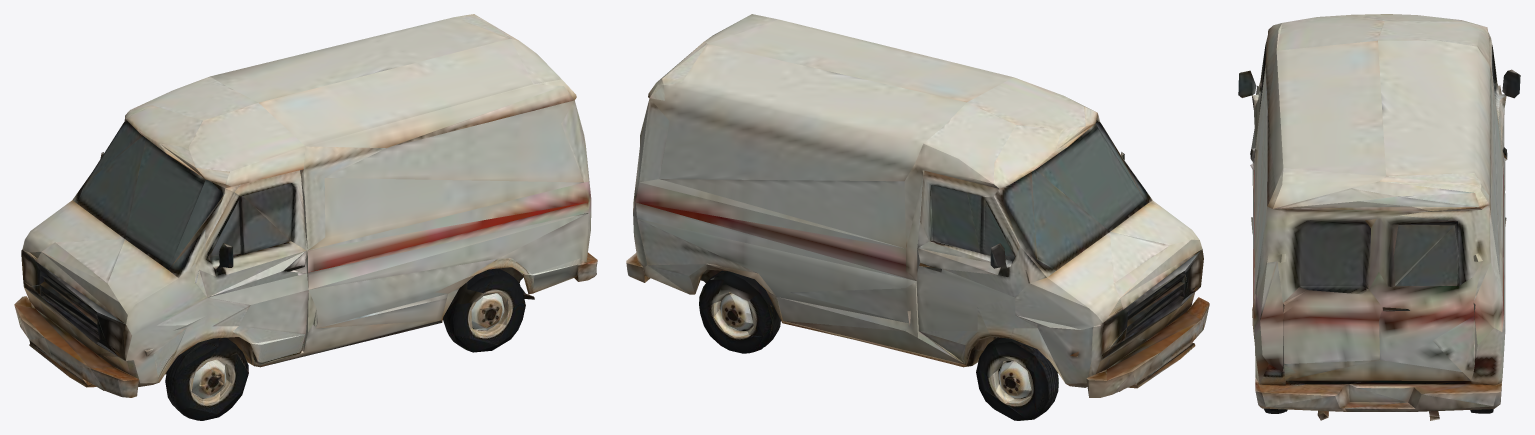
Rendered from van.glb.
3 views of the same model, side by side, from view 1: azimuth 30°, elevation 25°; view 2: azimuth 150°, elevation 25°; view 3: azimuth 270°, elevation 25° (orthographic). The views are drawn at different scales.
Size of the model in its own units: 1.9 by 0.9428 by 0.876.
Materials: 1 (1 with a texture image).
